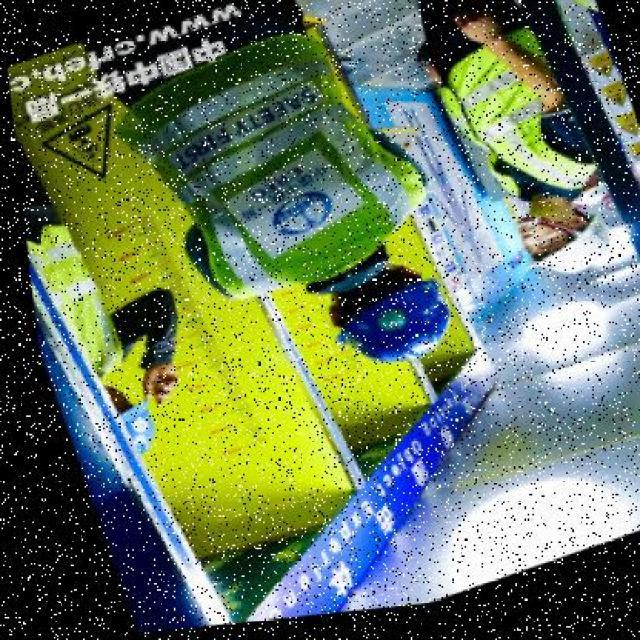helmet: (302, 282, 458, 397), (495, 228, 623, 307)
vest: (99, 5, 429, 335), (417, 25, 596, 237)
